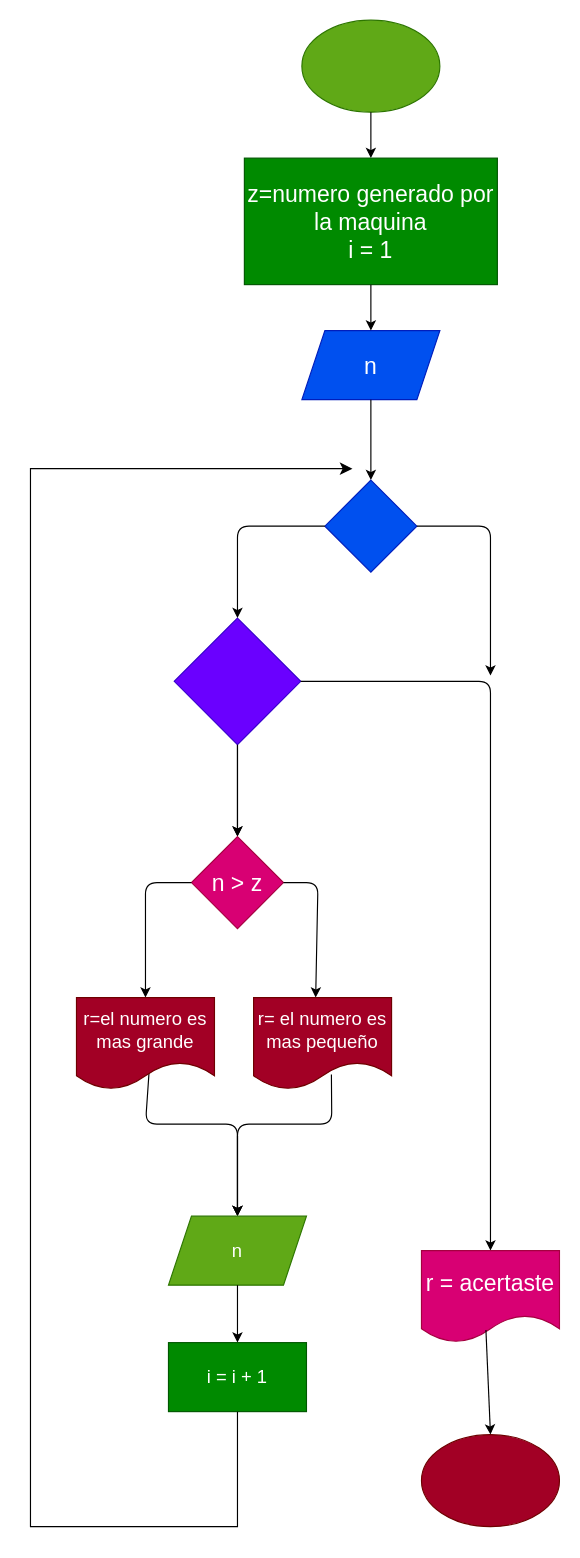
The diagram is 580 pixels wide and 1558 high, and some of its shapes have lost their labels. The box of each missing label's shape, as (x1, y1, x2, y2) in pixels:
fin: (420, 1433, 559, 1527)
inicio: (301, 19, 440, 112)
n == z: (324, 479, 417, 572)
n > z or n < z: (173, 617, 301, 745)
